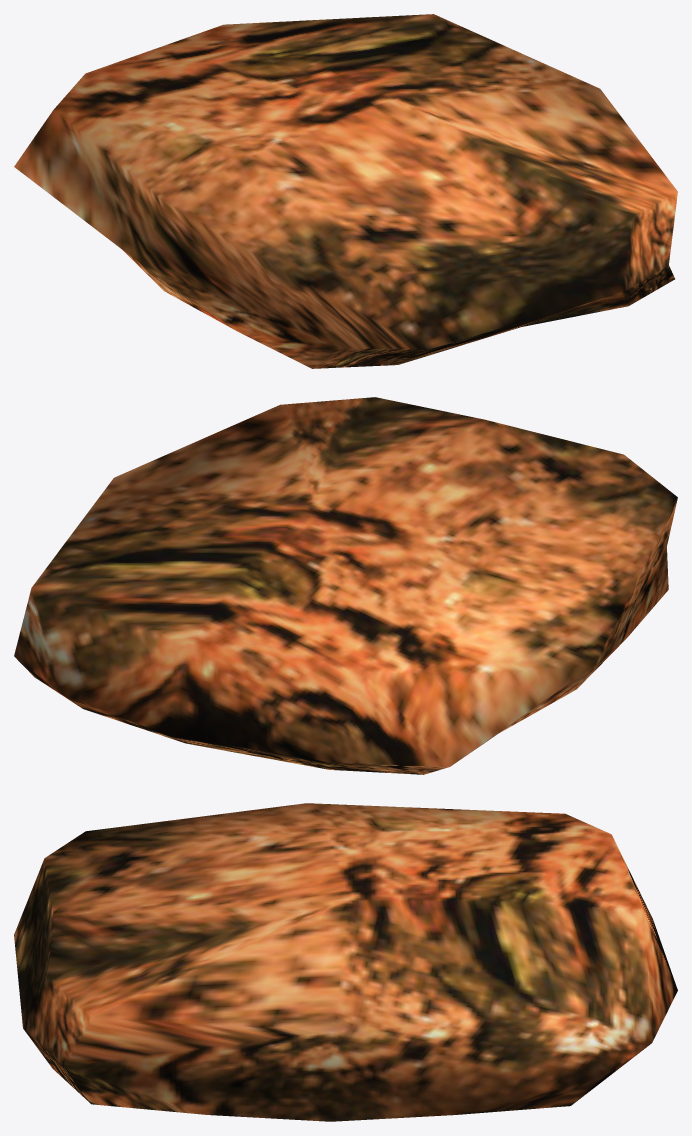
The model's file is stone2_tex3.fbx.
3 renders of one model, top to bottom at view 1: azimuth 30°, elevation 25°; view 2: azimuth 150°, elevation 25°; view 3: azimuth 270°, elevation 25°, orthographic. The views are drawn at different scales.
Parts seen in each view (by area): view 1: stone2_tex3Object; view 2: stone2_tex3Object; view 3: stone2_tex3Object.
Part boxes in pixels (x1,y1,x2,y2): stone2_tex3Object: [14, 14, 677, 368]; stone2_tex3Object: [14, 397, 677, 774]; stone2_tex3Object: [14, 803, 677, 1121].
Size of the model in its own units: 0.7783 by 0.2068 by 0.9592.
1 material, 1 textured.
